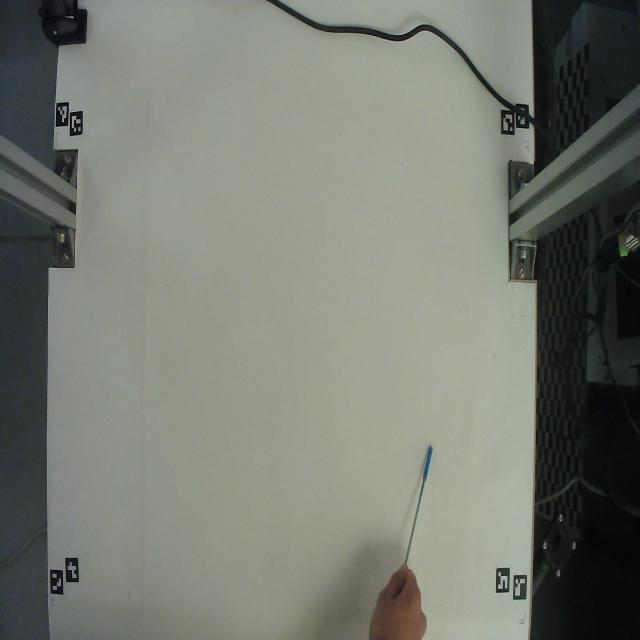Pres: (398, 441, 441, 572)
